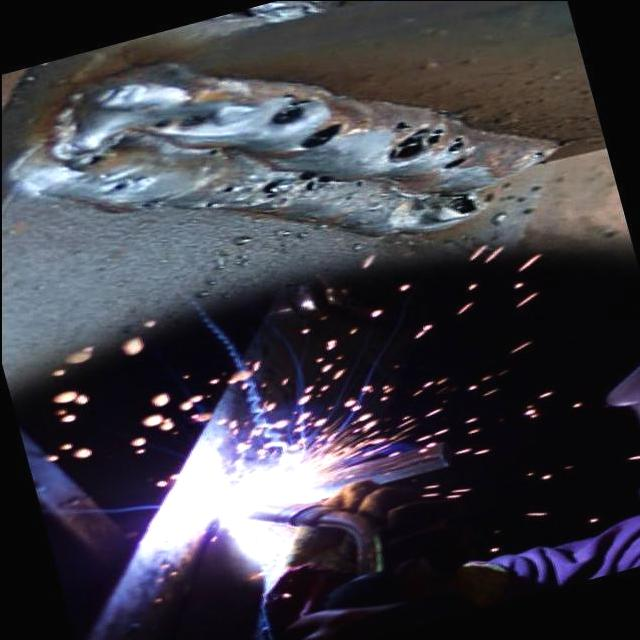defect: (383, 116, 475, 175), (405, 189, 478, 224), (293, 118, 353, 152), (266, 91, 314, 128), (72, 146, 118, 169), (296, 169, 336, 192), (255, 177, 285, 199), (174, 114, 210, 129), (108, 180, 131, 195), (137, 197, 162, 209), (149, 119, 170, 128), (526, 151, 545, 159), (342, 191, 359, 199), (203, 148, 218, 156), (352, 178, 367, 186), (220, 185, 236, 192), (204, 202, 214, 207)
